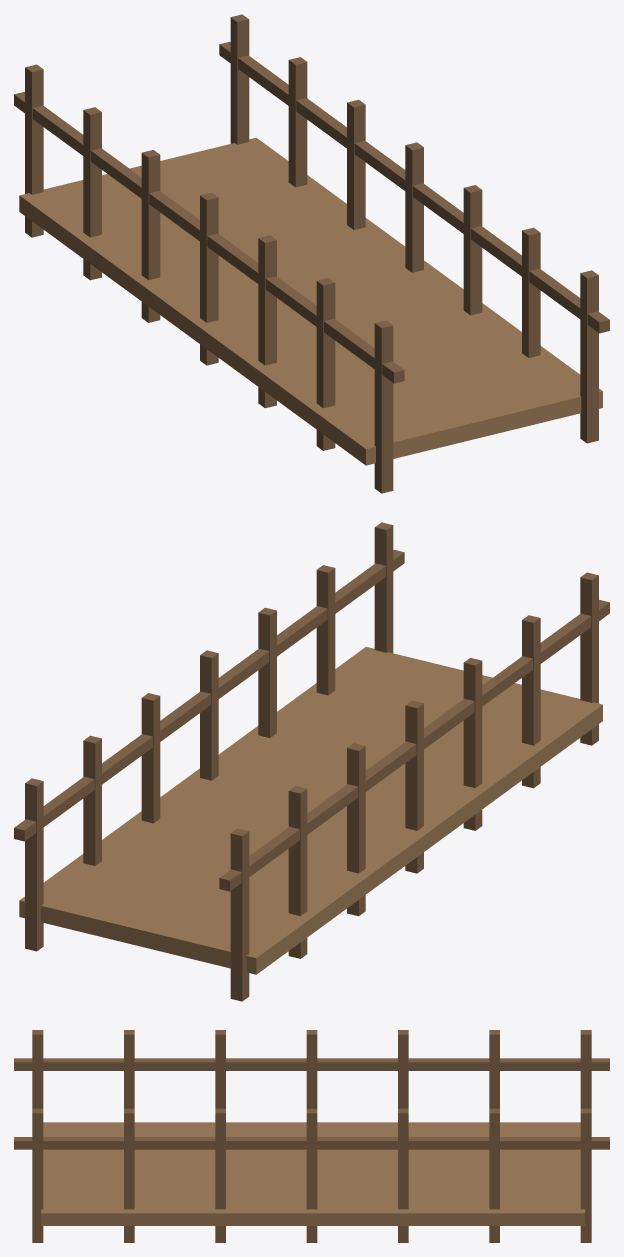
Rendered from bridge.glb.
The picture shows the model from 3 angles, top to bottom: view 1: azimuth 30°, elevation 25°; view 2: azimuth 150°, elevation 25°; view 3: azimuth 270°, elevation 25°; orthographic projection. The views are drawn at different scales.
Parts seen in each view (by area): view 1: plank_11, rail_1, rail_0, plank_10, plank_9, plank_0, plank_2, plank_4, plank_6, plank_8, plank_7, plank_5 (+16 smaller); view 2: plank_0, rail_1, rail_0, plank_1, plank_2, plank_11, plank_9, plank_7, plank_5, plank_3, plank_6, plank_4 (+16 smaller); view 3: rail_0, rail_1, plank_11, plank_9, plank_7, plank_0, plank_5, plank_2, plank_3, plank_1, plank_4, plank_6 (+16 smaller).
Part boxes in pixels (x1,y1,x2,y2): plank_11: (337, 370, 602, 465); rail_1: (219, 41, 609, 333); rail_0: (14, 92, 404, 383); plank_10: (308, 349, 573, 444); plank_9: (279, 328, 544, 422); plank_0: (19, 137, 284, 232); plank_2: (77, 180, 342, 274); plank_4: (135, 222, 400, 317); plank_6: (192, 264, 457, 359); plank_8: (250, 307, 515, 401); plank_7: (221, 285, 486, 380); plank_5: (164, 243, 429, 338); plank_0: (19, 879, 285, 974); rail_1: (14, 549, 404, 841); rail_0: (219, 600, 609, 891); plank_1: (49, 858, 314, 953); plank_2: (77, 837, 342, 931); plank_11: (337, 647, 602, 741); plank_9: (279, 689, 545, 784); plank_7: (222, 731, 487, 826); plank_5: (164, 773, 429, 868); plank_3: (106, 816, 371, 910); plank_6: (193, 752, 458, 847); plank_4: (135, 795, 400, 889); rail_0: (14, 1058, 609, 1070); rail_1: (14, 1137, 609, 1149); plank_11: (41, 1122, 86, 1225); plank_9: (132, 1122, 177, 1225); plank_7: (222, 1122, 267, 1225); plank_0: (539, 1122, 584, 1225); plank_5: (313, 1122, 358, 1225); plank_2: (449, 1122, 494, 1225); plank_3: (403, 1122, 448, 1225); plank_1: (494, 1122, 539, 1225); plank_4: (358, 1122, 403, 1225); plank_6: (268, 1122, 313, 1225).
Bounding box in the file's own units: 1.8 × 1.2 × 5.
